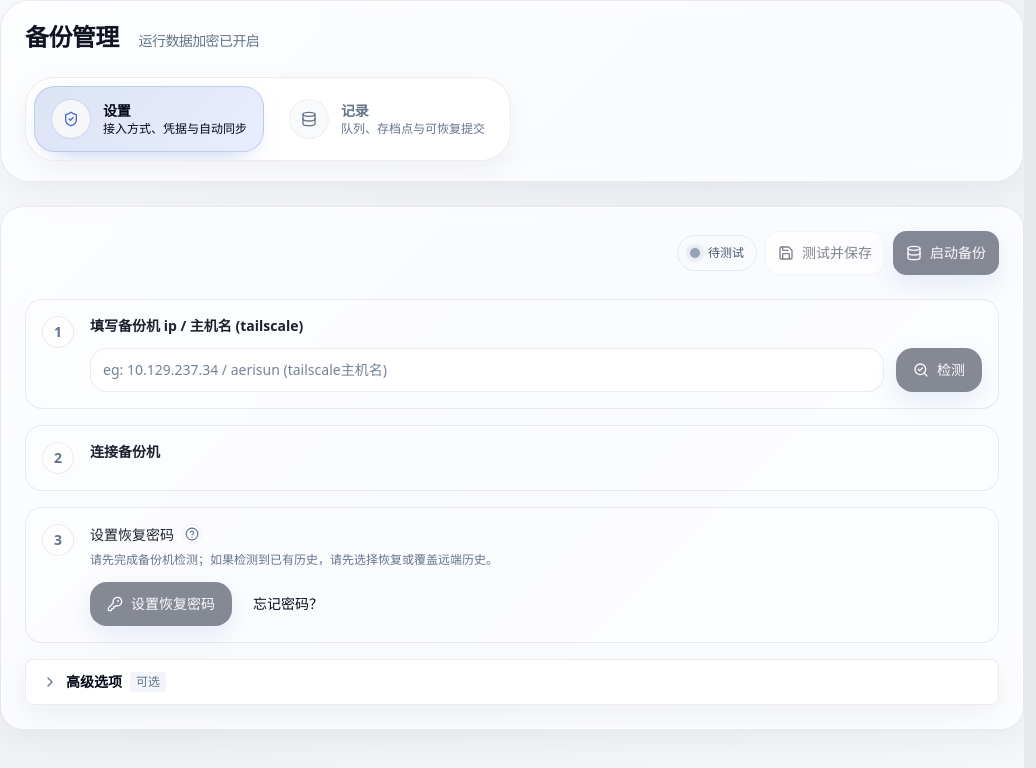
Test: BackupsPage usability › shows archive points without an actions column
Click the button "记录 队列、存档点与可恢复提交". click: [387, 119]
box: left=272, top=86, right=502, bottom=152
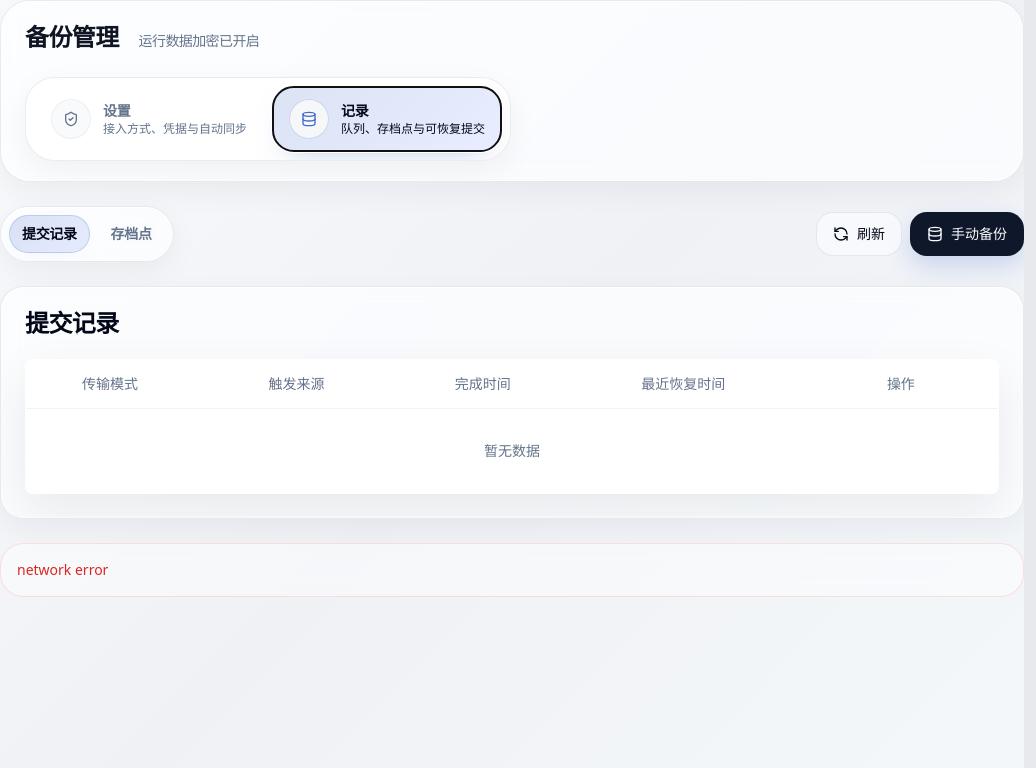
Click the button "存档点". click: [131, 234]
box: left=98, top=215, right=165, bottom=253
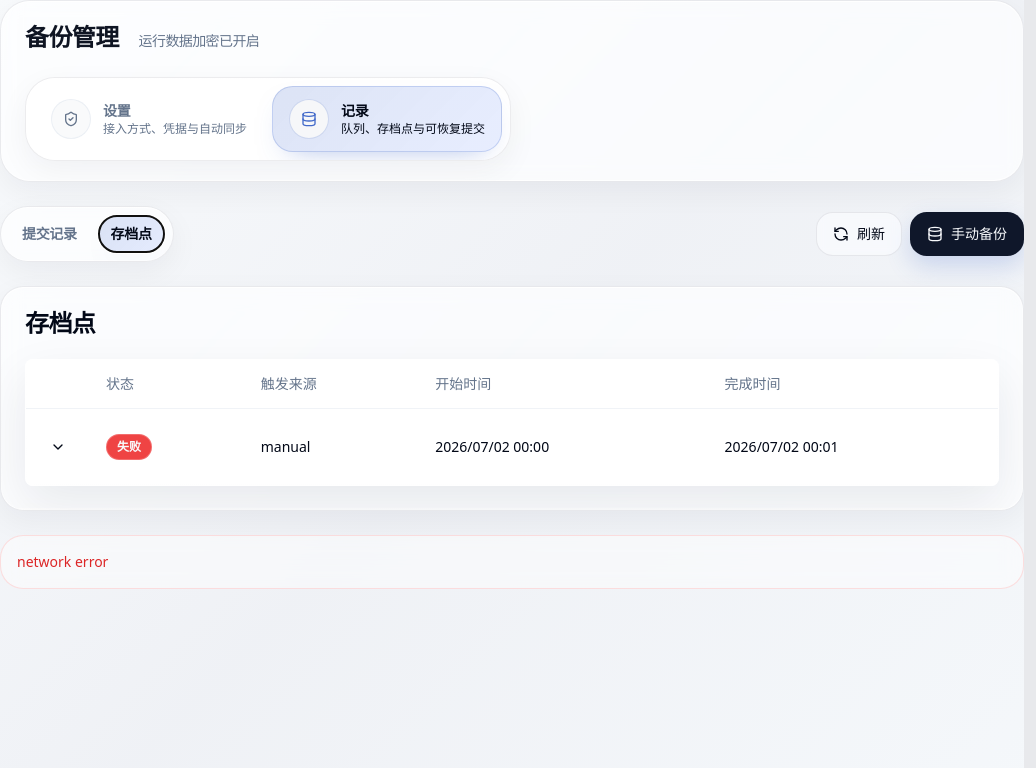
Expected: the text "存档点" is shown, left=111, top=224, right=152, bottom=244
Expected: the text "network error" is shown, left=17, top=552, right=108, bottom=570
Expected: the column heading "操作" is gone
